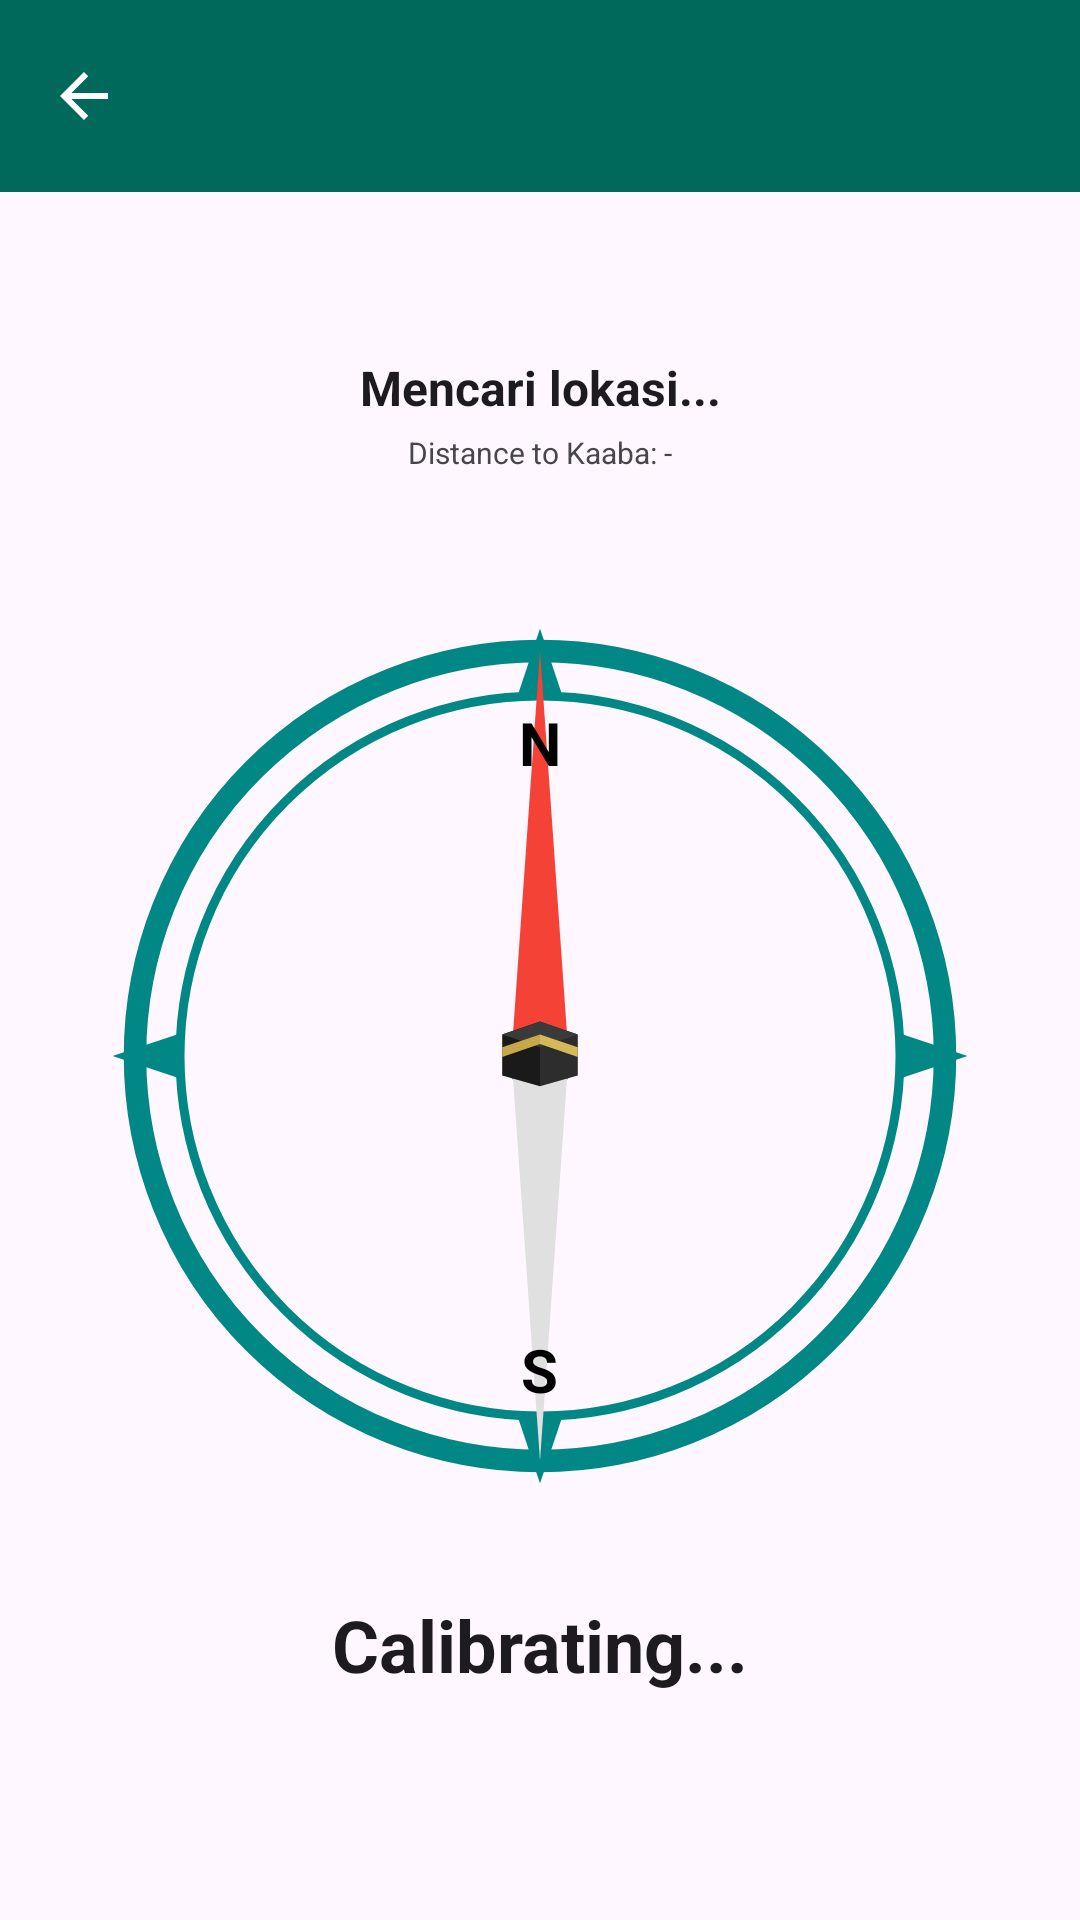

Icon click points for this 1080*1920 phone screenshot, format point (x, y):
kaaba: point (540, 1056)
